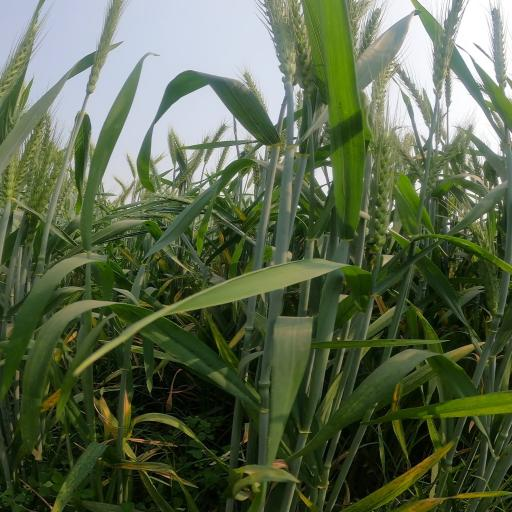diease: (367, 434, 470, 486), (87, 396, 131, 442), (390, 494, 512, 506), (217, 460, 311, 475), (108, 461, 174, 482), (125, 432, 176, 454), (34, 386, 77, 410), (364, 292, 397, 316)
pest: (334, 99, 359, 120), (171, 342, 200, 356), (431, 232, 458, 244), (380, 337, 406, 341)
wheat: (411, 0, 504, 83), (0, 114, 69, 207), (258, 0, 330, 80), (70, 0, 126, 94), (0, 2, 56, 92), (92, 169, 170, 224), (470, 0, 512, 102), (361, 160, 400, 268), (194, 192, 266, 238), (445, 201, 500, 261), (369, 70, 403, 146), (162, 123, 201, 184), (344, 10, 384, 65), (229, 66, 280, 103), (182, 242, 223, 280), (109, 243, 143, 269)
